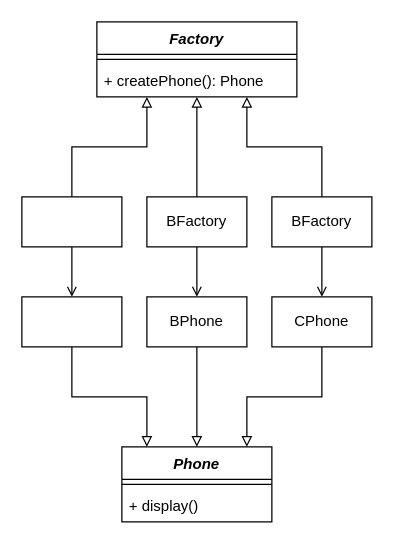
The diagram is 394 pixels wide and 548 high, and some of its shapes have lost their labels. Here are the shapes that lost their labels. From the top down, the centre of each, then its label:
pixel 71 221: AFactory
pixel 71 321: APhone
